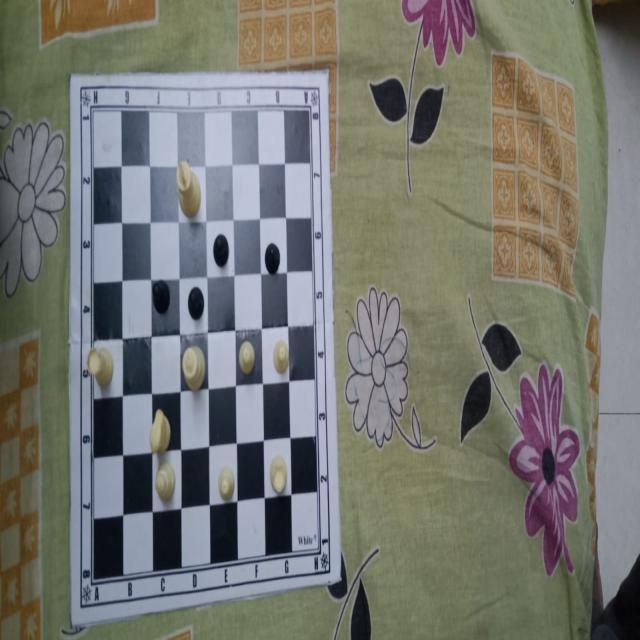corners: (332, 565, 346, 593), (65, 611, 79, 635), (320, 62, 331, 84), (66, 68, 76, 89)
